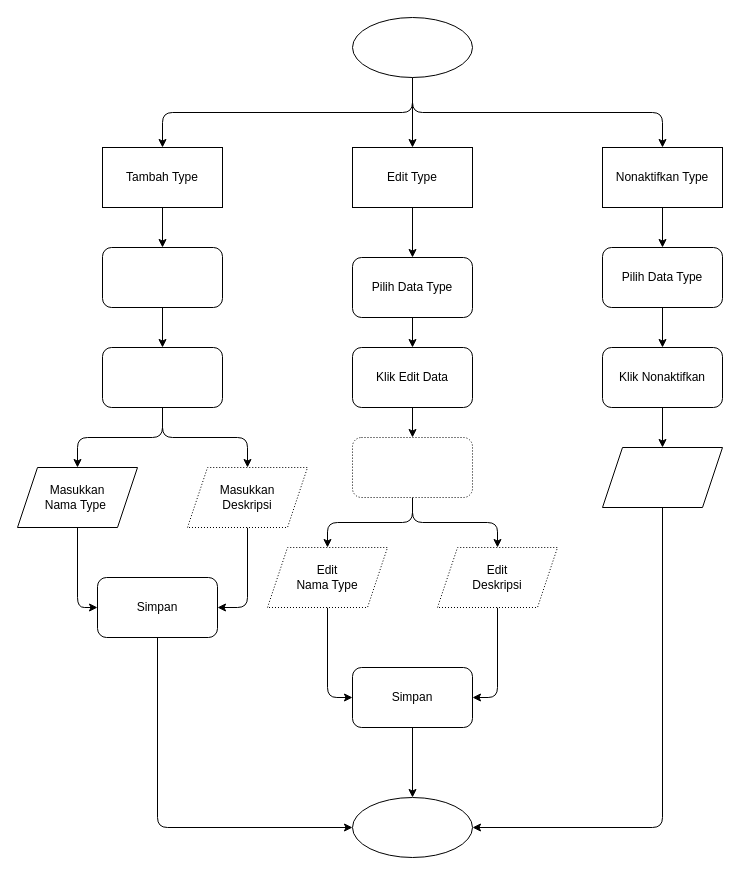
This 740x875 diagram has some shape labels left out. The shapes that lost their labels are listed below. From the top down, each one's centre as x and y in pixels, then its label:
pixel 412 47: START
pixel 162 277: Pilih Unit
pixel 162 377: Pilih Category
pixel 412 467: Edit Parent Unit & Category
pixel 662 477: Pesan Type Berhasil Dinonaktifkan
pixel 412 827: END
